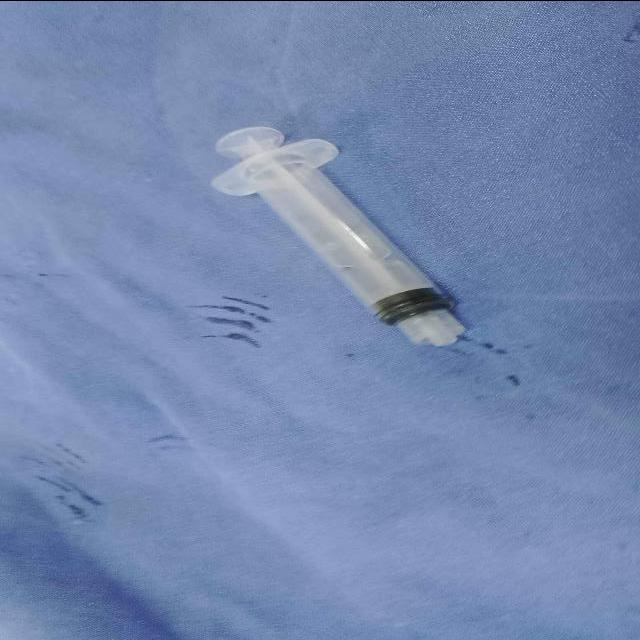Sharps: (208, 125, 467, 349)
